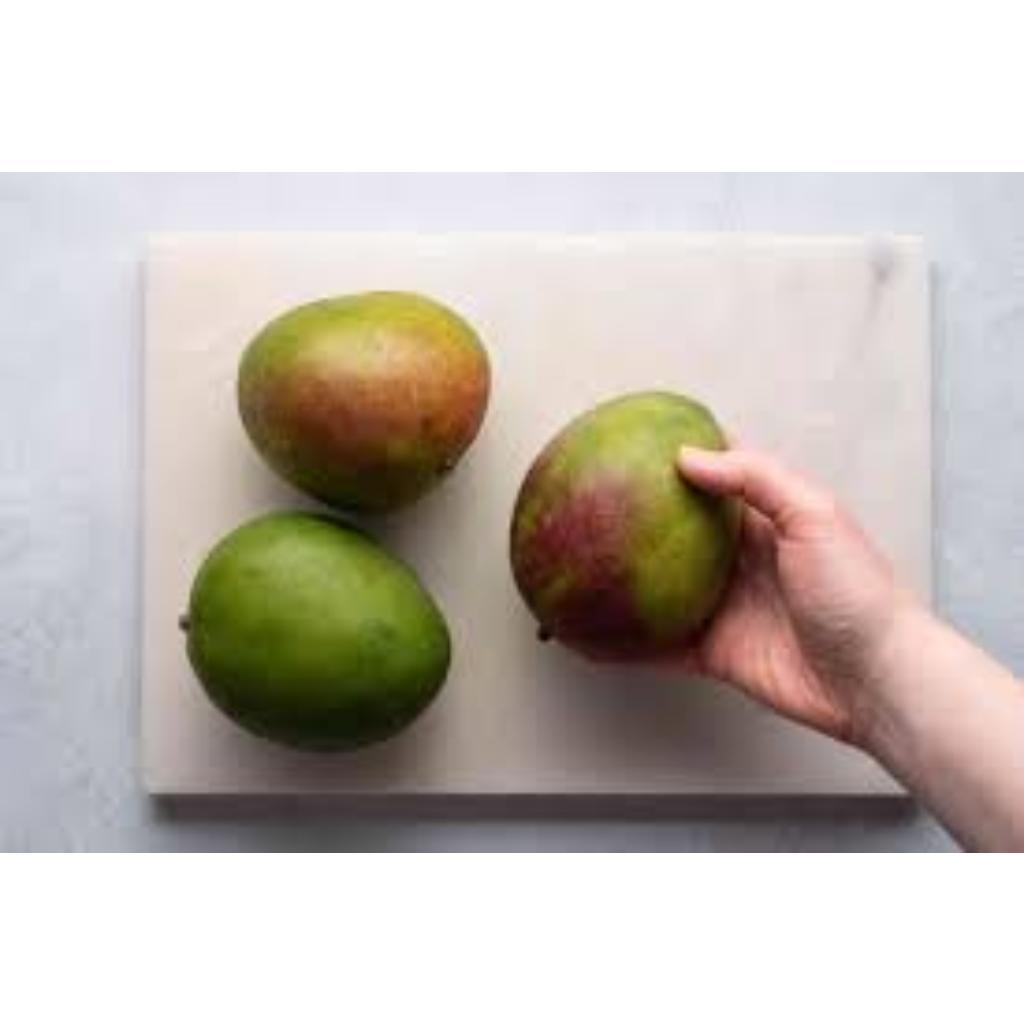mango: (506, 391, 741, 666), (172, 514, 455, 738), (240, 289, 482, 506)
